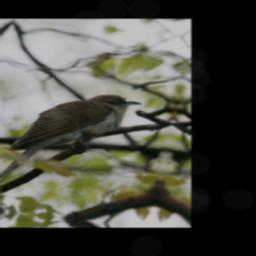Cuckoo: (0, 83, 142, 204)
